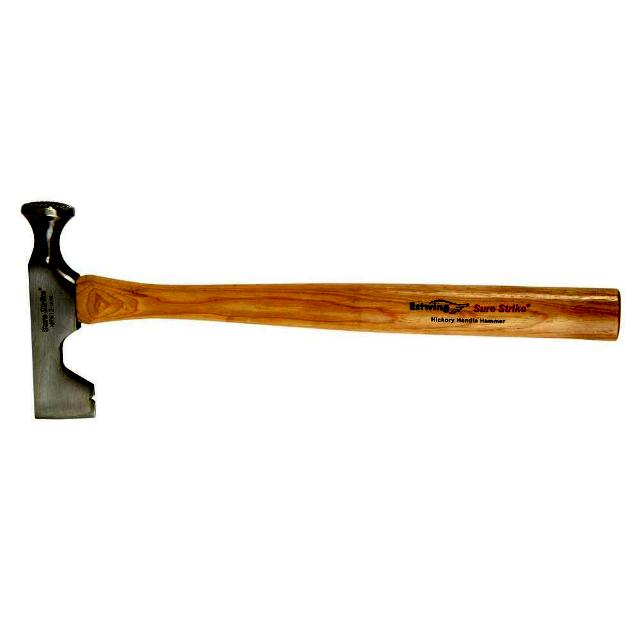hammer: (10, 195, 628, 428)
